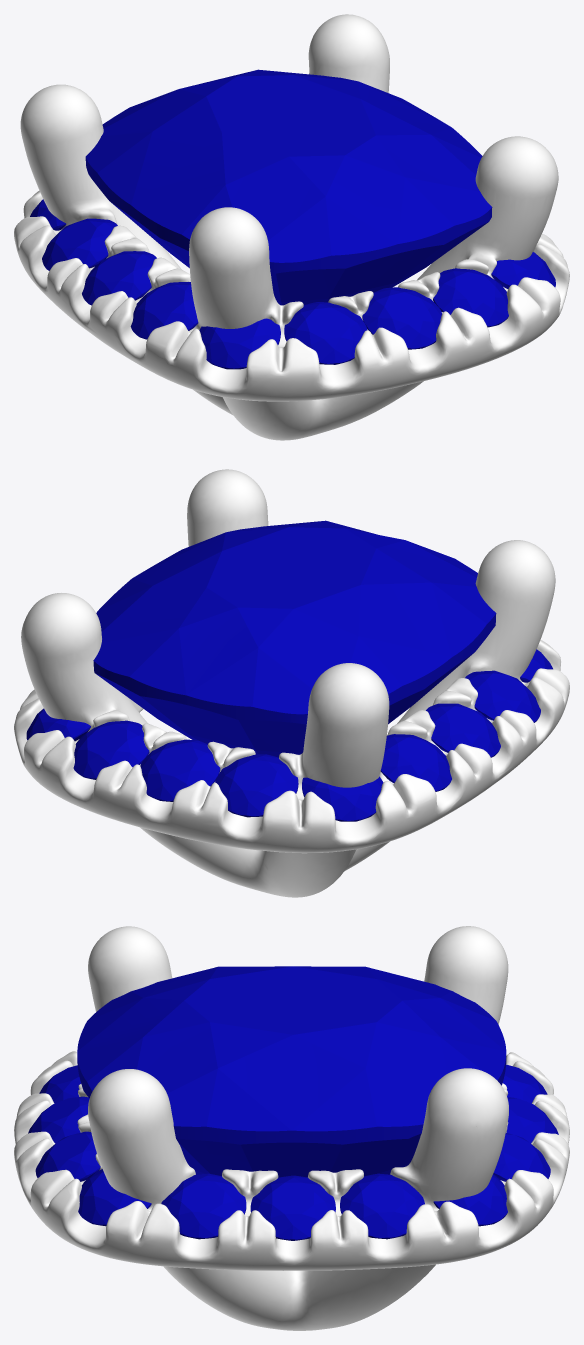
Rendered from Cushion.glb.
3 views of the same model, one above another, from view 1: azimuth 30°, elevation 25°; view 2: azimuth 150°, elevation 25°; view 3: azimuth 270°, elevation 25° (orthographic).
Visible parts, largest first — view 1: /Cushion Single Halo.3dm, Diamond_Cushion, Diamond_Round (×8); view 2: /Cushion Single Halo.3dm, Diamond_Cushion, Diamond_Round (×8); view 3: /Cushion Single Halo.3dm, Diamond_Cushion, Diamond_Round (×11).
Boxes of the visible parts, left/top/right/bottom form: /Cushion Single Halo.3dm: left=14, top=14, right=569, bottom=440; Diamond_Cushion: left=85, top=69, right=492, bottom=305; Diamond_Round (×8): left=42, top=218, right=555, bottom=369; /Cushion Single Halo.3dm: left=14, top=469, right=569, bottom=897; Diamond_Cushion: left=93, top=520, right=496, bottom=757; Diamond_Round (×8): left=26, top=670, right=540, bottom=821; /Cushion Single Halo.3dm: left=14, top=926, right=569, bottom=1330; Diamond_Cushion: left=77, top=966, right=506, bottom=1177; Diamond_Round (×11): left=28, top=1064, right=558, bottom=1240.
Bounding box in the file's own units: 8.78 × 6.36 × 9.88.
